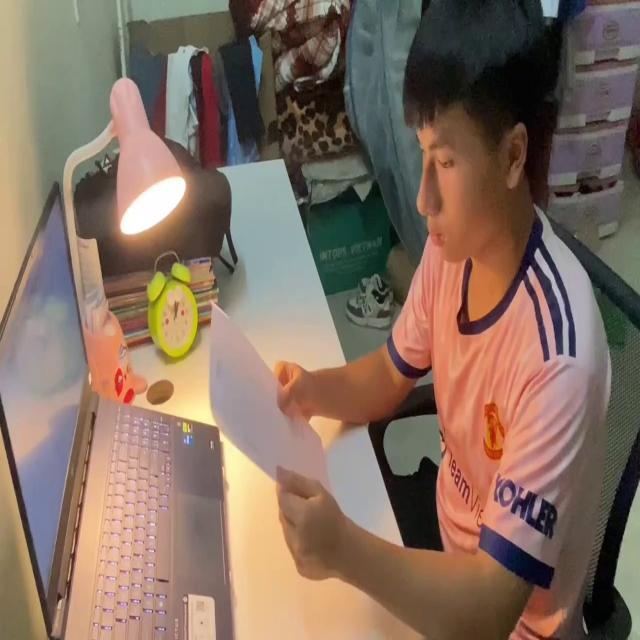book: (206, 296, 334, 501)
laptop: (0, 170, 234, 640)
student: (276, 0, 612, 640)
